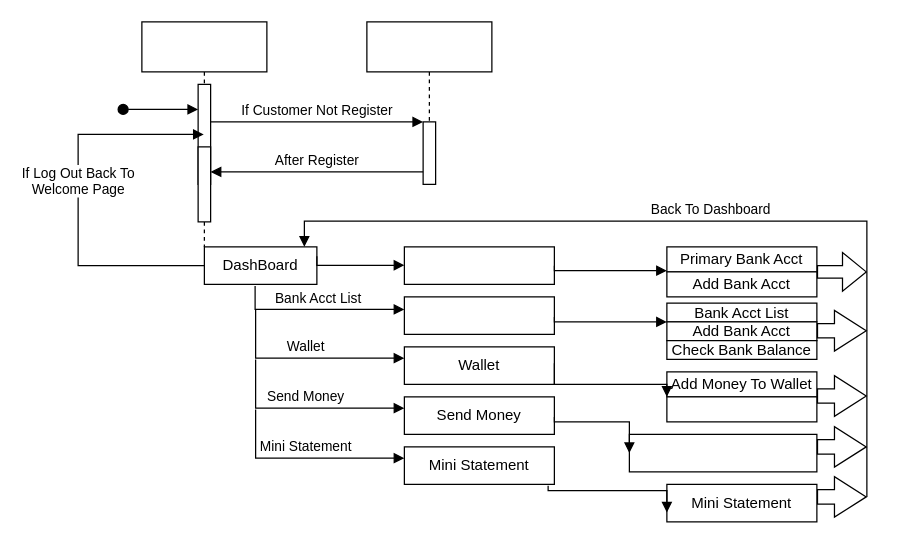
Some shapes in this 899 by 545 pixel diagram are drawn without their labels. The shapes that lost their labels are listed below. From the top down, each one's centre as x and y in pixels, then its label:
point 429,102: Register
point 204,134: Welcome Or Login Page
point 478,265: Bank Account
point 478,315: Bank Account List
point 741,409: Check Wallet Amount
point 722,452: To Self, To Other Wallet, To Other Bank Account
